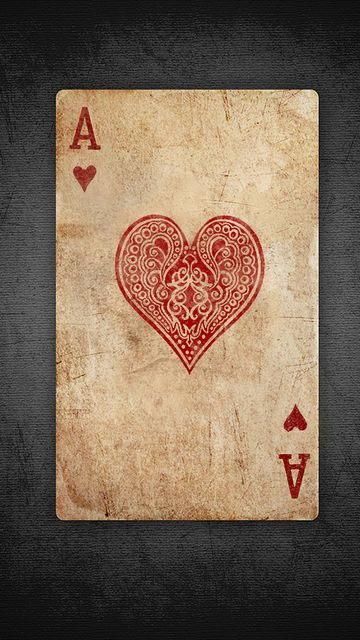ace of hearts: (55, 89, 325, 524)
